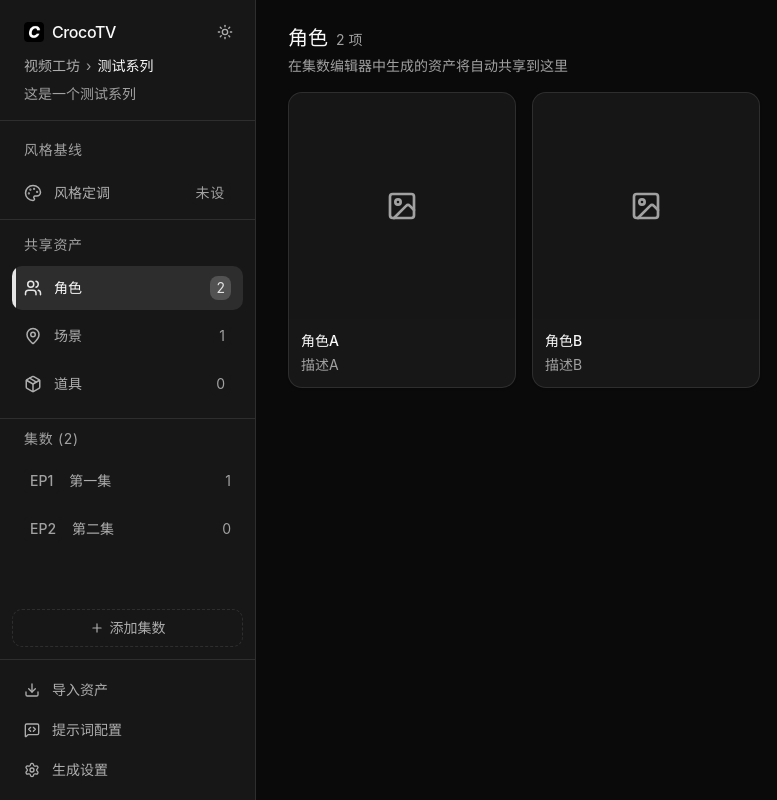
it: SeriesDetailPage › Add episode › shows input form when add button is clicked
The image size is (777, 800).
Click the button "添加集数". click: (128, 628)
box: [12, 609, 243, 647]
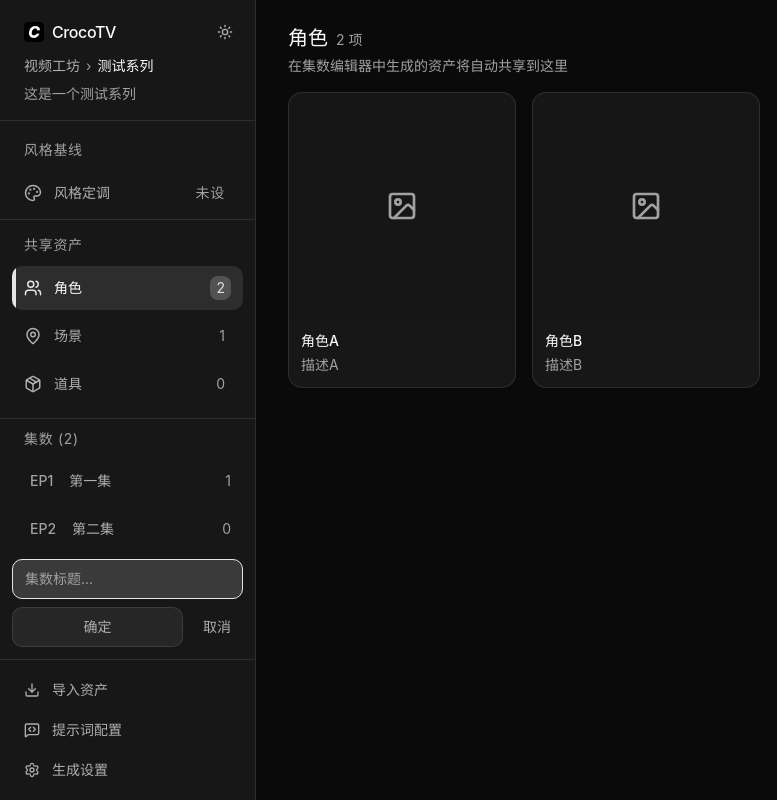
Now the field with placeholder "集数标题..." is shown, box [12, 559, 243, 599]
Now the button "确定" is shown, box [12, 607, 183, 647]
Now the button "取消" is shown, box [191, 607, 243, 647]
